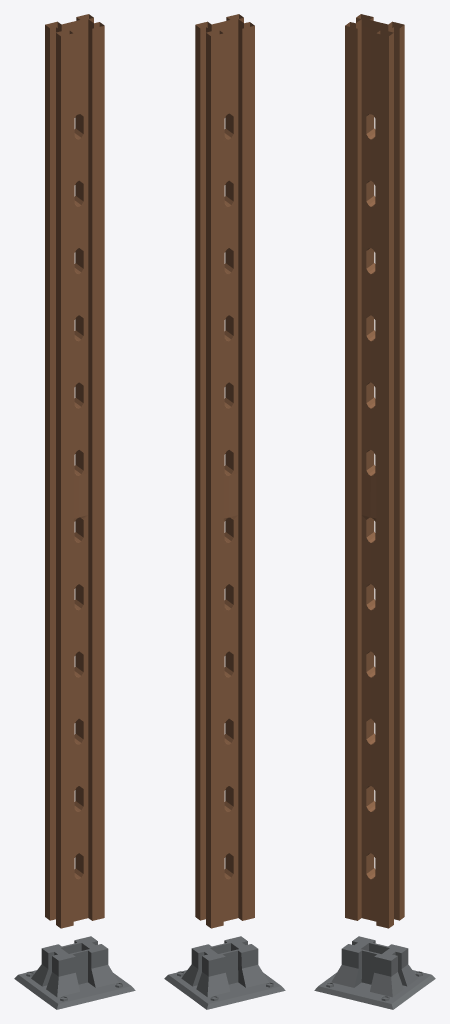
File: SM_Pillar.fbx
3 renders of one model, left to right at view 1: azimuth 30°, elevation 25°; view 2: azimuth 210°, elevation 25°; view 3: azimuth 330°, elevation 25°, orthographic.
Visible parts, largest first — view 1: Pillar, Pillar_Ground; view 2: Pillar, Pillar_Ground; view 3: Pillar, Pillar_Ground.
Boxes of the visible parts, x1,y1,x2,y2 form: Pillar: [45, 14, 104, 928]; Pillar_Ground: [14, 936, 135, 1009]; Pillar: [195, 14, 254, 928]; Pillar_Ground: [164, 936, 285, 1009]; Pillar: [345, 14, 404, 928]; Pillar_Ground: [314, 936, 435, 1009].
Size of the model in its own units: 3.03 by 35.05 by 2.82.
